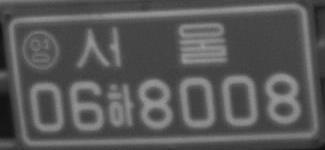0: (177, 75, 216, 129), (221, 73, 258, 128), (29, 81, 64, 134)
6: (68, 79, 104, 132)
8: (264, 72, 303, 125), (137, 78, 174, 131)
서울_D: (76, 21, 228, 70)
영: (22, 29, 59, 69)
하: (106, 82, 135, 127)
